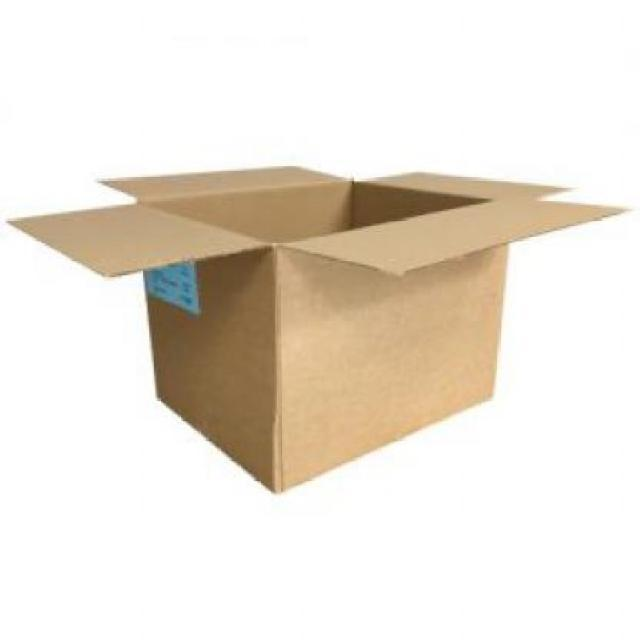box: (36, 167, 592, 486)
